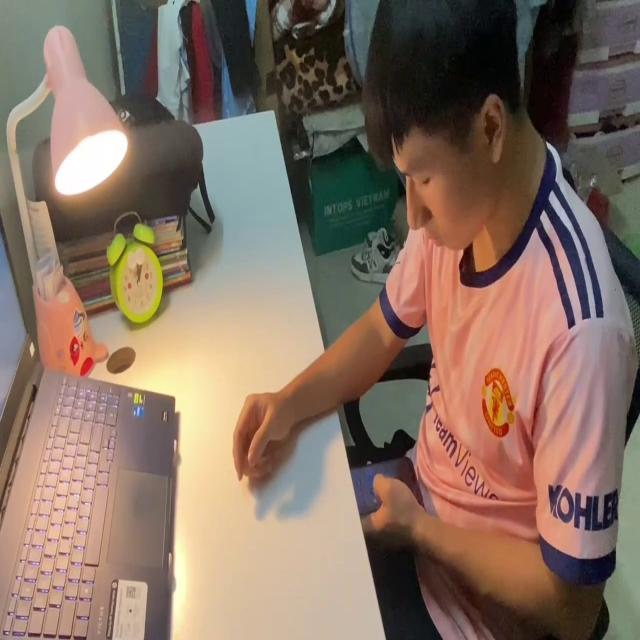laptop: (0, 206, 180, 640)
phone: (348, 446, 426, 528)
student: (231, 0, 634, 640)
